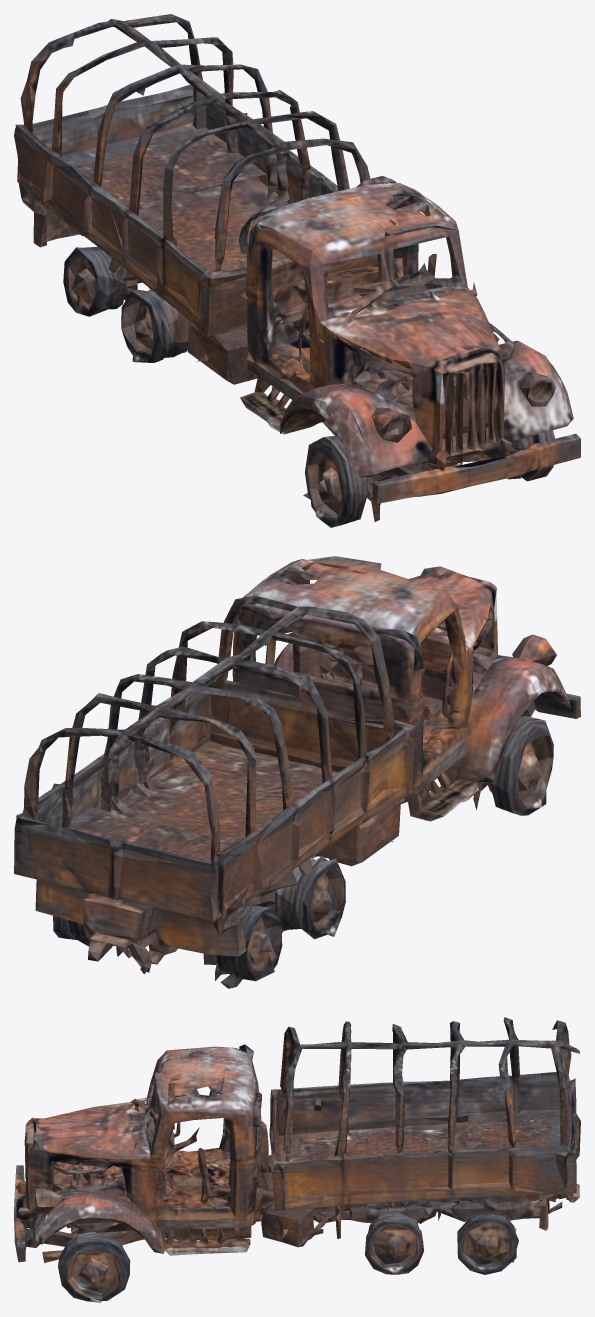
The model's file is truck_burnt.obj.
3 views of the same model, one above another, from view 1: azimuth 30°, elevation 25°; view 2: azimuth 150°, elevation 25°; view 3: azimuth 270°, elevation 25° (orthographic). The views are drawn at different scales.
Visible parts, largest first — view 1: truck_burnt; view 2: truck_burnt; view 3: truck_burnt.
Part boxes in pixels (x1,y1,x2,y2): truck_burnt: (14, 14, 580, 527); truck_burnt: (14, 556, 580, 988); truck_burnt: (14, 1017, 580, 1302).
Size of the model in its own units: 2.48 by 2.71 by 6.5.
1 material, 1 textured.
